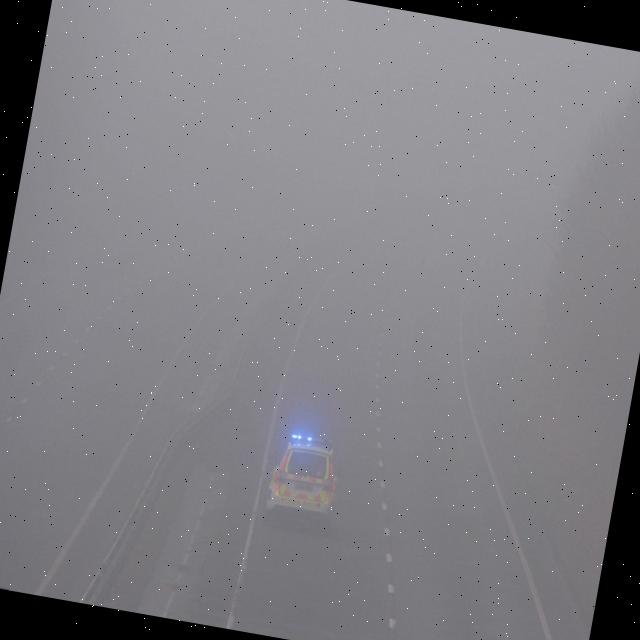car: (262, 436, 342, 528)
